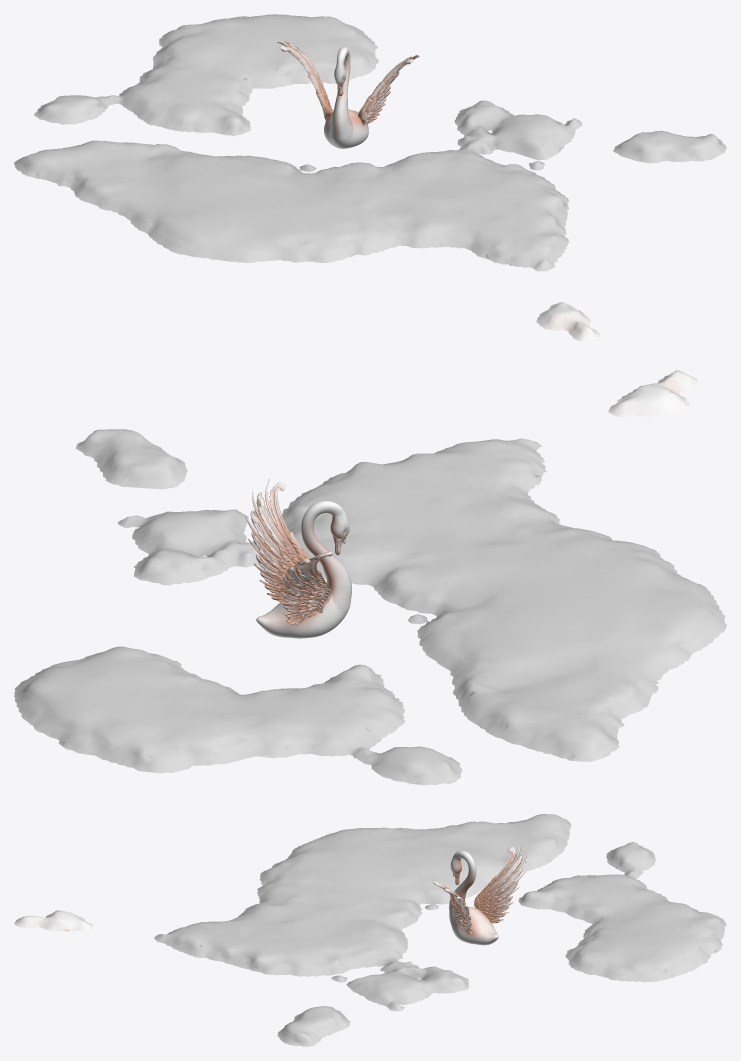
Rendered from iskand3n.glb.
3 views of the same model, one above another, from view 1: azimuth 30°, elevation 25°; view 2: azimuth 150°, elevation 25°; view 3: azimuth 270°, elevation 25° (orthographic). The views are drawn at different scales.
Visible parts, largest first — view 1: island_3, Swan; view 2: island_3, Swan; view 3: island_3, Swan.
Boxes of the visible parts, left/top/right/bottom form: island_3: left=14, top=14, right=726, bottom=271; Swan: left=277, top=41, right=600, bottom=341; island_3: left=14, top=429, right=726, bottom=785; Swan: left=245, top=370, right=697, bottom=638; island_3: left=154, top=814, right=726, bottom=1046; Swan: left=14, top=846, right=526, bottom=945.
Bounding box in the file's own units: 14.1 × 2.4 × 18.47.
